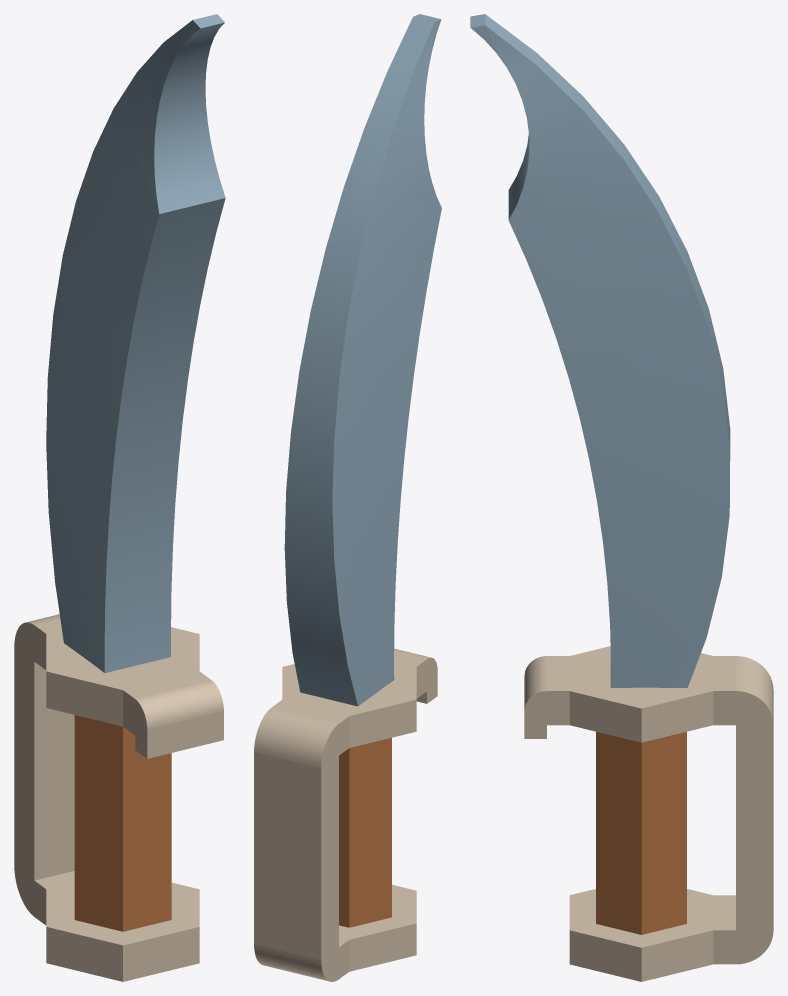
File: sword_scimitar.fbx
The picture shows the model from 3 angles, left to right: view 1: azimuth 30°, elevation 25°; view 2: azimuth 150°, elevation 25°; view 3: azimuth 270°, elevation 25°; orthographic projection. The views are drawn at different scales.
Parts seen in each view (by area): view 1: sword_scimitar; view 2: sword_scimitar; view 3: sword_scimitar.
Boxes of the visible parts, x1,y1,x2,y2 form: sword_scimitar: (14, 14, 225, 981); sword_scimitar: (254, 14, 441, 981); sword_scimitar: (470, 14, 773, 981).
Bounding box in the file's own units: 1.1 × 6.78 × 2.01.
